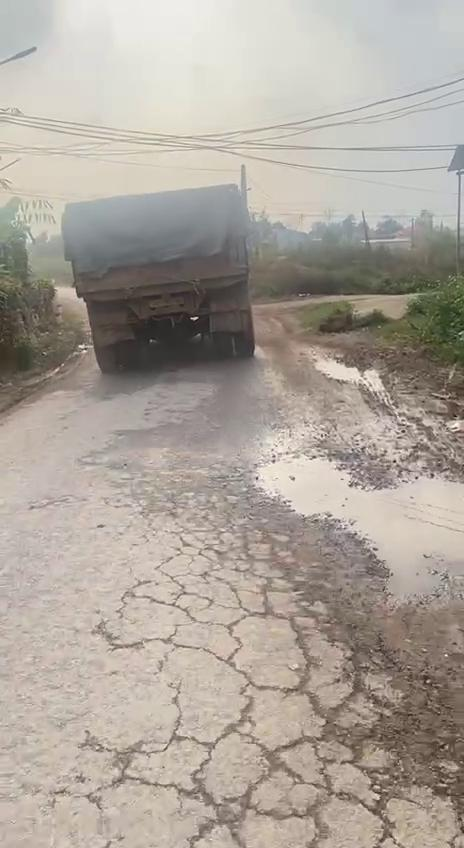pothole: (245, 447, 464, 604)
